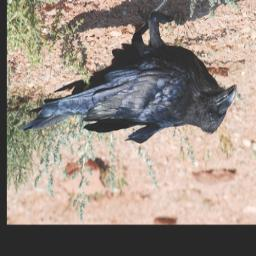Crow: (19, 0, 239, 145)
